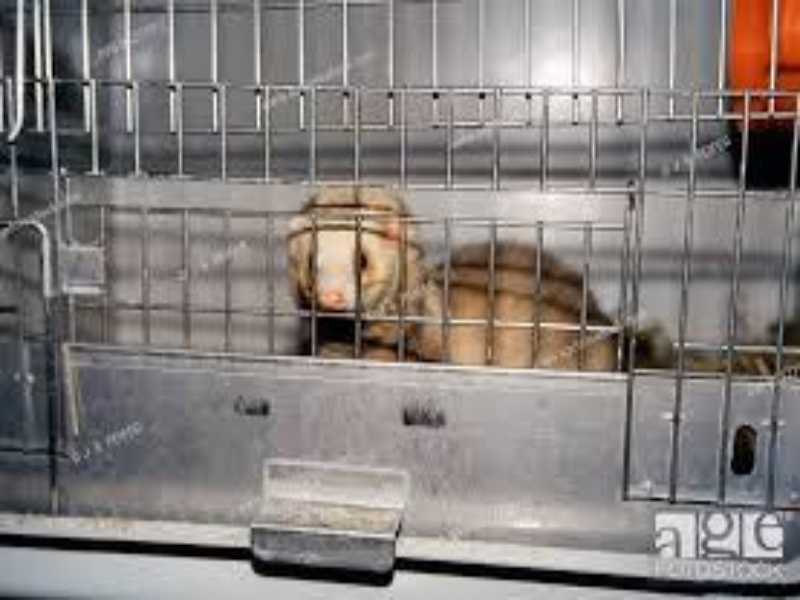minkish: (290, 191, 764, 409)
